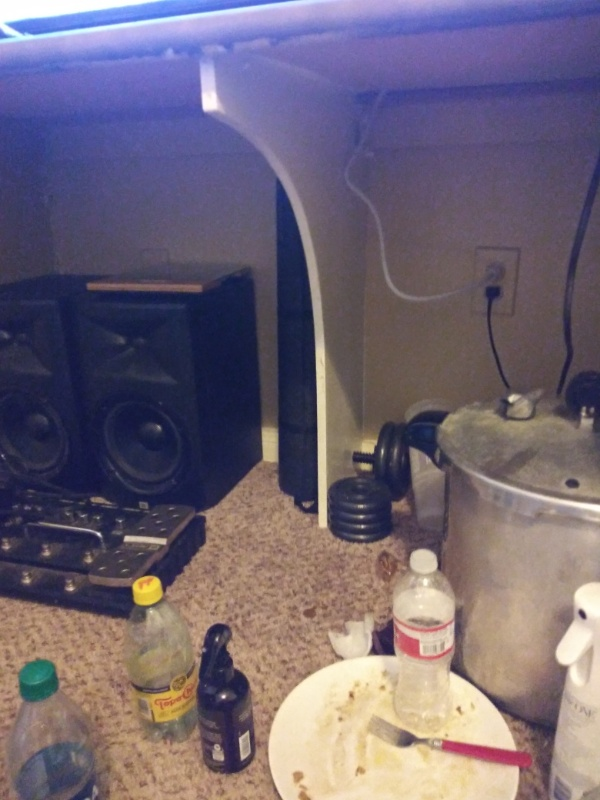bottle: (6, 657, 113, 800), (117, 572, 204, 744), (385, 547, 462, 731)
